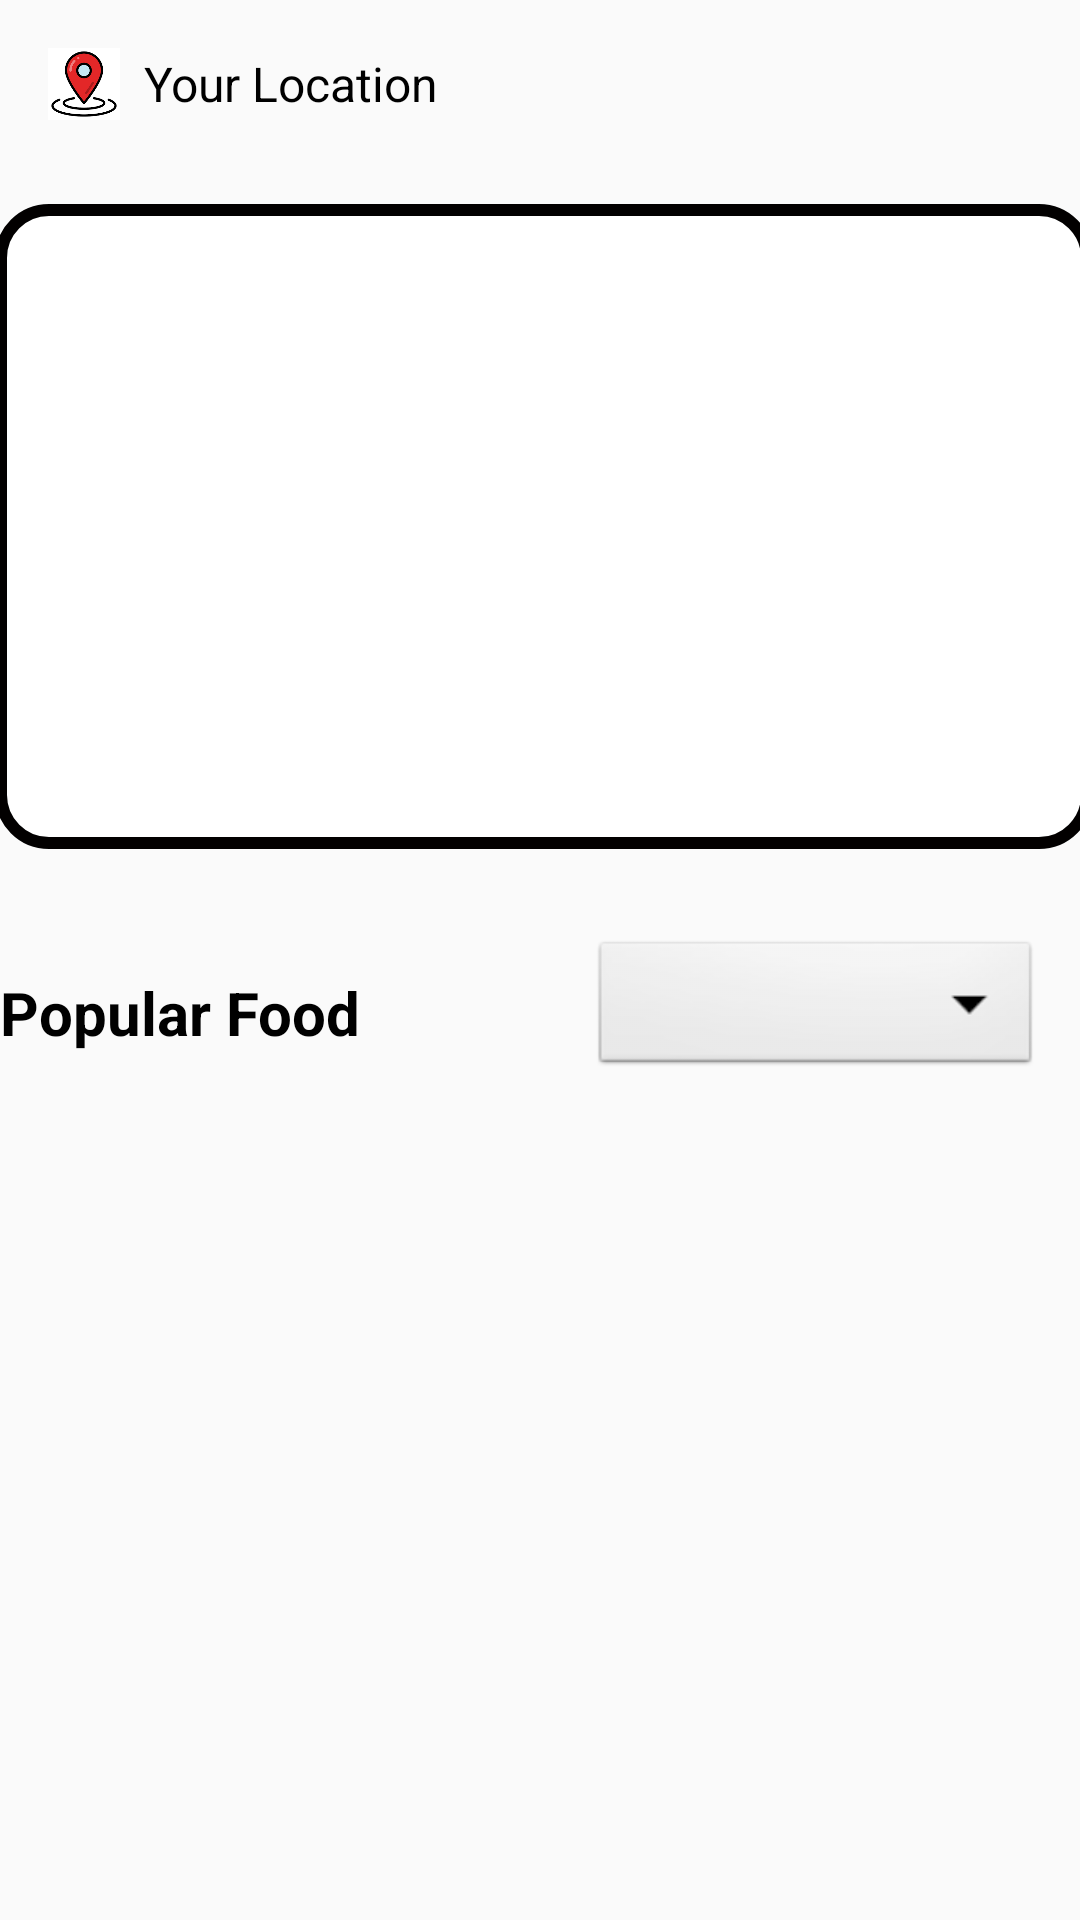

Screen size 1080*1920. Icon name, then its box in pixels as detection(x1, y1, x2, y2):
Location Pin: detection(51, 51, 117, 117)
